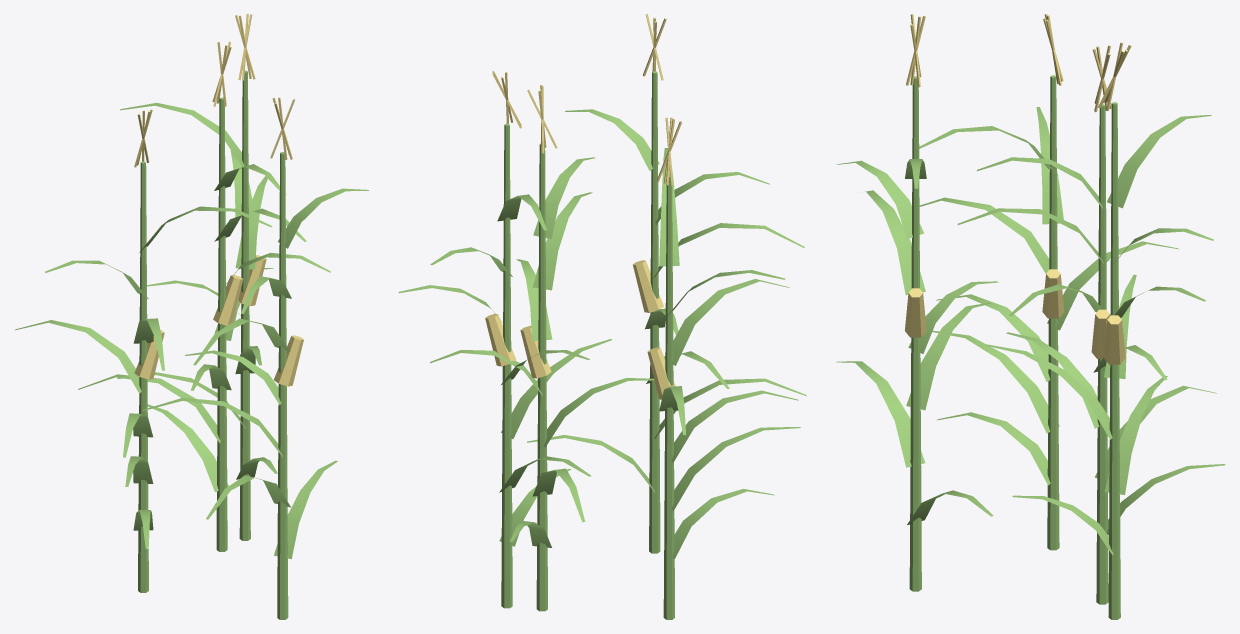
Rendered from Uprawa_Kukurydza_2.fbx.
3 views of the same model, side by side, from view 1: azimuth 30°, elevation 25°; view 2: azimuth 150°, elevation 25°; view 3: azimuth 270°, elevation 25° (orthographic). The views are drawn at different scales.
Parts seen in each view (by area): view 1: Uprawa_Kukurydza_2; view 2: Uprawa_Kukurydza_2; view 3: Uprawa_Kukurydza_2.
Boxes of the visible parts, <box> form: Uprawa_Kukurydza_2: <box>15,14,369,619</box>; Uprawa_Kukurydza_2: <box>398,14,806,619</box>; Uprawa_Kukurydza_2: <box>836,14,1225,619</box>.
Size of the model in its own units: 1.56 by 2.59 by 1.59.
